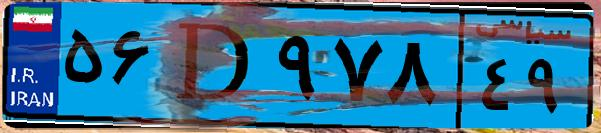4: (475, 38, 525, 113)
5: (57, 26, 110, 100)
6: (110, 28, 158, 98)
7: (330, 28, 385, 110)
8: (385, 28, 445, 110)
9: (270, 28, 330, 110), (525, 38, 570, 115)
D: (158, 12, 270, 120)
